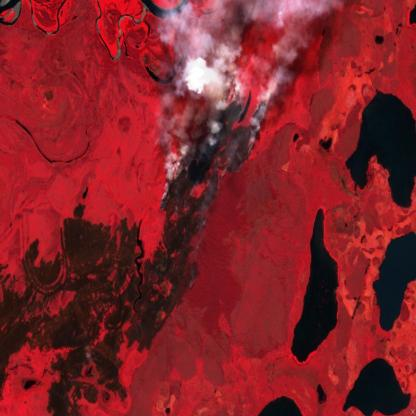fire: (151, 91, 270, 242)
